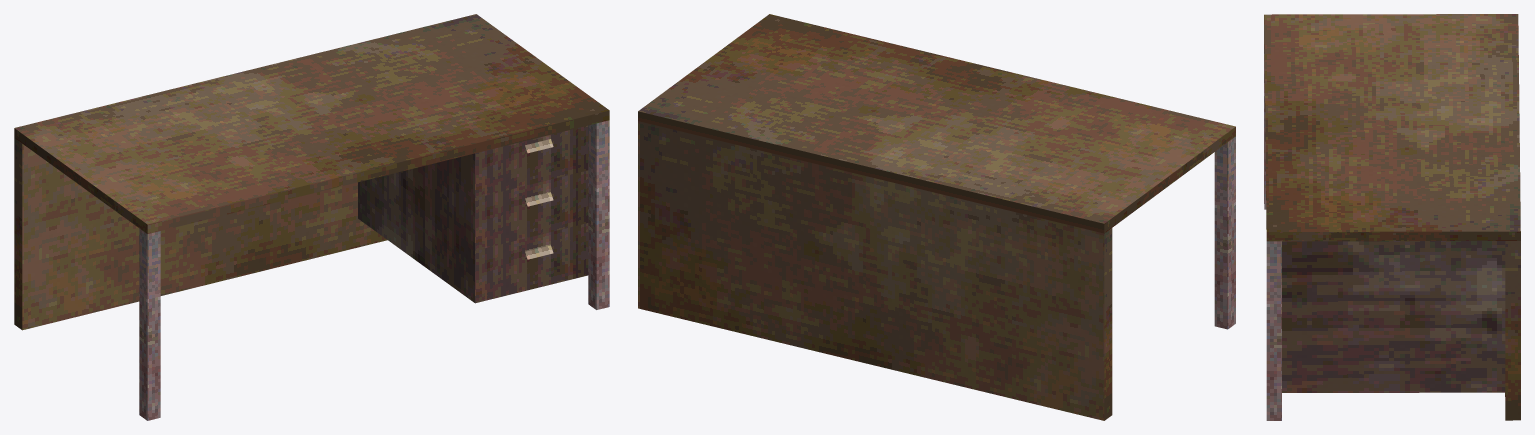
Rendered from desk1_alt3_weathered.glb.
3 renders of one model, left to right at view 1: azimuth 30°, elevation 25°; view 2: azimuth 150°, elevation 25°; view 3: azimuth 270°, elevation 25°, orthographic. The views are drawn at different scales.
Visible parts, largest first — view 1: desk1_alt3_weathered; view 2: desk1_alt3_weathered; view 3: desk1_alt3_weathered.
Boxes of the visible parts, <box> form: desk1_alt3_weathered: <box>14,14,609,420</box>; desk1_alt3_weathered: <box>638,14,1235,420</box>; desk1_alt3_weathered: <box>1264,14,1520,420</box>.
Bounding box in the file's own units: 2.21 × 0.8911 × 1.1.
Materials: 1 (1 with a texture image).
